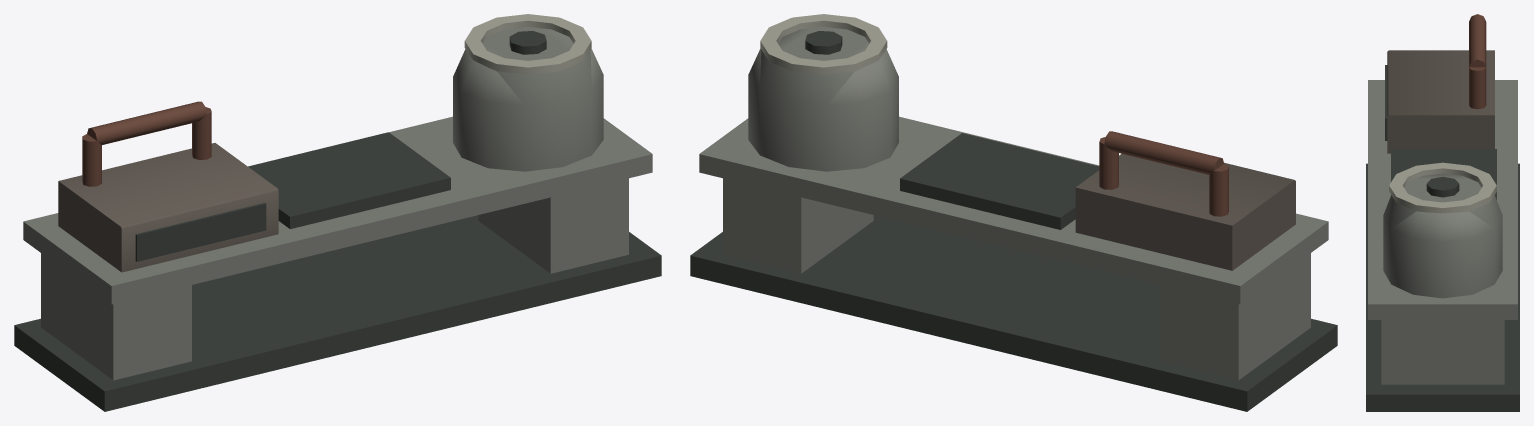
File: bioferrite_shaper.obj
3 views of the same model, side by side, from view 1: azimuth 30°, elevation 25°; view 2: azimuth 150°, elevation 25°; view 3: azimuth 270°, elevation 25° (orthographic). The views are drawn at different scales.
Visible parts, largest first — view 1: source_component_000, source_component_003, source_component_010, source_component_004, source_component_001, source_component_009, source_component_002, source_component_011, source_component_005, source_component_008, source_component_006, source_component_007 (+1 smaller); view 2: source_component_000, source_component_003, source_component_004, source_component_010, source_component_001, source_component_009, source_component_002, source_component_011, source_component_008, source_component_006, source_component_007, source_component_012; view 3: source_component_003, source_component_010, source_component_004, source_component_002, source_component_000, source_component_011, source_component_009, source_component_008, source_component_007, source_component_012, source_component_005.
Part boxes in pixels (box(x1,y1,x2,y2)): source_component_000: box(14, 215, 661, 411); source_component_003: box(23, 116, 652, 304); source_component_010: box(453, 27, 603, 171); source_component_004: box(58, 143, 278, 272); source_component_001: box(41, 253, 191, 380); source_component_009: box(248, 132, 450, 229); source_component_002: box(478, 178, 628, 273); source_component_011: box(464, 14, 591, 74); source_component_005: box(135, 203, 266, 261); source_component_008: box(87, 101, 206, 144); source_component_006: box(82, 134, 101, 186); source_component_007: box(192, 107, 211, 159); source_component_000: box(690, 215, 1337, 411); source_component_003: box(699, 116, 1328, 304); source_component_004: box(1075, 154, 1295, 270); source_component_010: box(748, 27, 898, 171); source_component_001: box(1160, 253, 1310, 380); source_component_009: box(900, 133, 1099, 229); source_component_002: box(723, 178, 873, 273); source_component_011: box(760, 14, 887, 74); source_component_008: box(1104, 131, 1223, 174); source_component_006: box(1209, 163, 1228, 216); source_component_007: box(1099, 137, 1118, 189); source_component_012: box(805, 31, 842, 54); source_component_003: box(1368, 80, 1517, 319); source_component_010: box(1383, 173, 1502, 298); source_component_004: box(1387, 50, 1494, 153); source_component_002: box(1381, 320, 1504, 384); source_component_000: box(1366, 163, 1519, 411); source_component_011: box(1389, 162, 1496, 213); source_component_009: box(1391, 149, 1496, 199); source_component_008: box(1469, 14, 1486, 67); source_component_007: box(1469, 67, 1486, 109); source_component_012: box(1426, 177, 1459, 197); source_component_005: box(1385, 65, 1387, 140).
Bounding box in the file's own units: 2.84 × 1.1 × 0.8.
